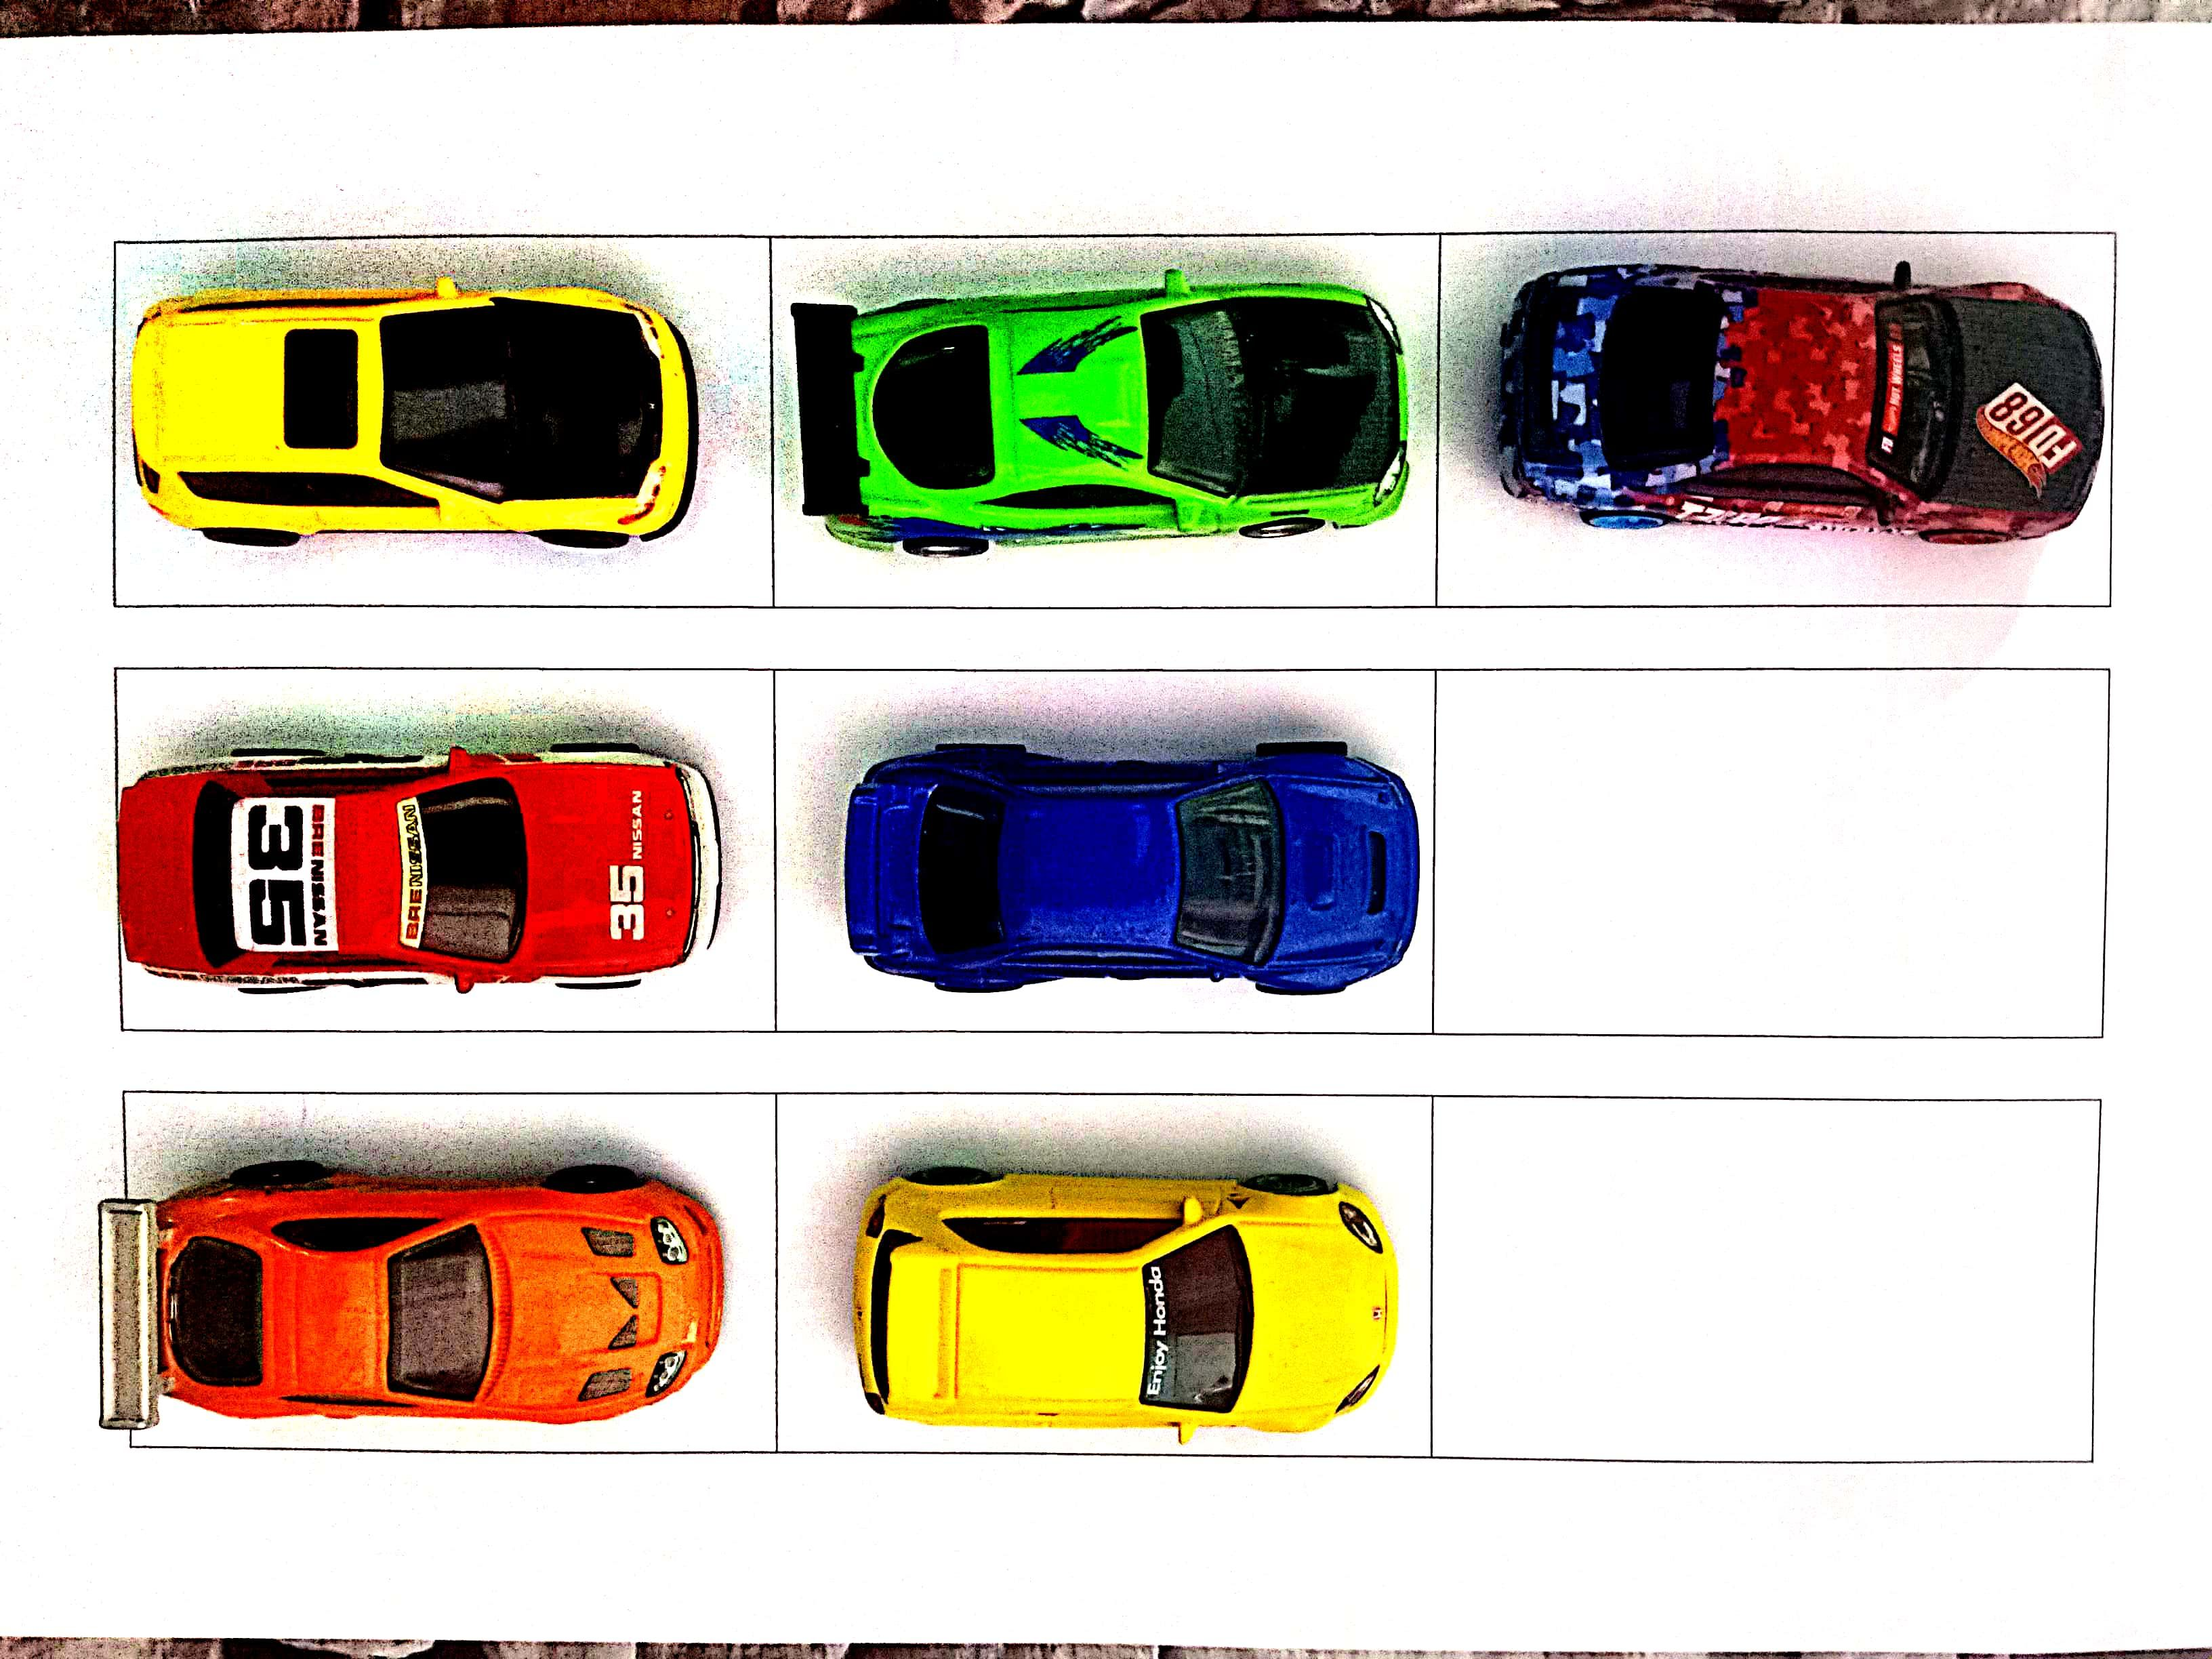Busy: (1446, 235, 2106, 613), (766, 235, 1442, 601), (117, 235, 773, 605), (775, 673, 1439, 1030), (117, 673, 779, 1030), (125, 1087, 779, 1448), (784, 1094, 1437, 1453)
Free: (1437, 1089, 2099, 1460), (1433, 673, 2106, 1033)
